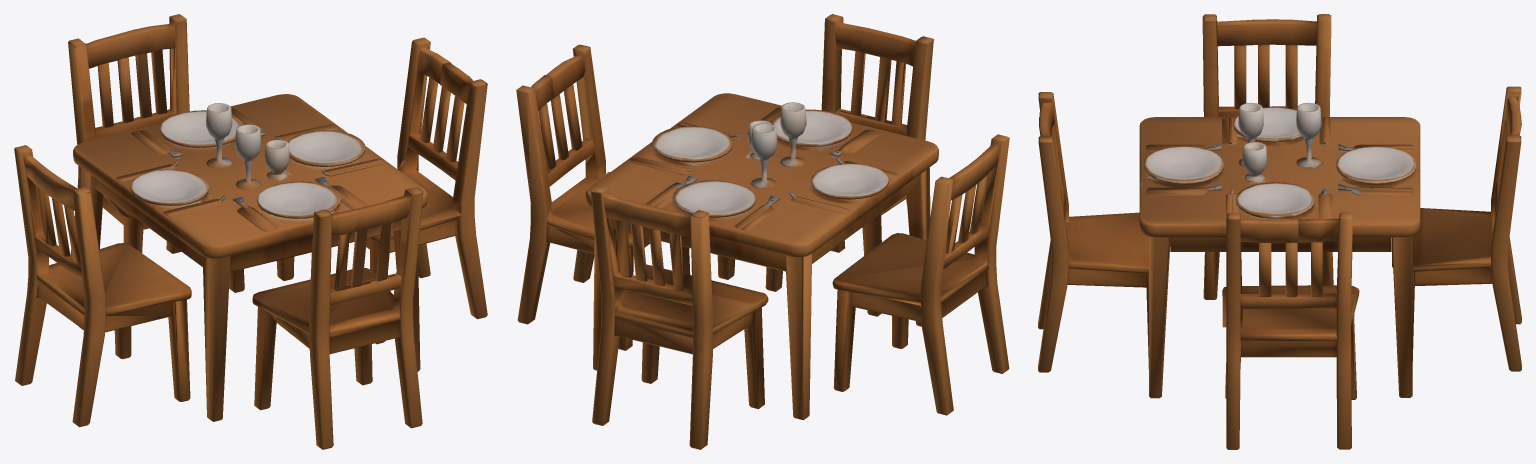
File: Inside__DinnerTable1.cluster.glb
3 renders of one model, left to right at view 1: azimuth 30°, elevation 25°; view 2: azimuth 150°, elevation 25°; view 3: azimuth 270°, elevation 25°, orthographic.
Visible parts, largest first — view 1: DinnerTable1; view 2: DinnerTable1; view 3: DinnerTable1.
Part boxes in pixels (x1,y1,x2,y2): DinnerTable1: (14,14,487,449); DinnerTable1: (516,14,1009,449); DinnerTable1: (1038,14,1521,449).
Size of the model in its own units: 1.9 by 1.01 by 1.9.
1 material, 1 textured.
